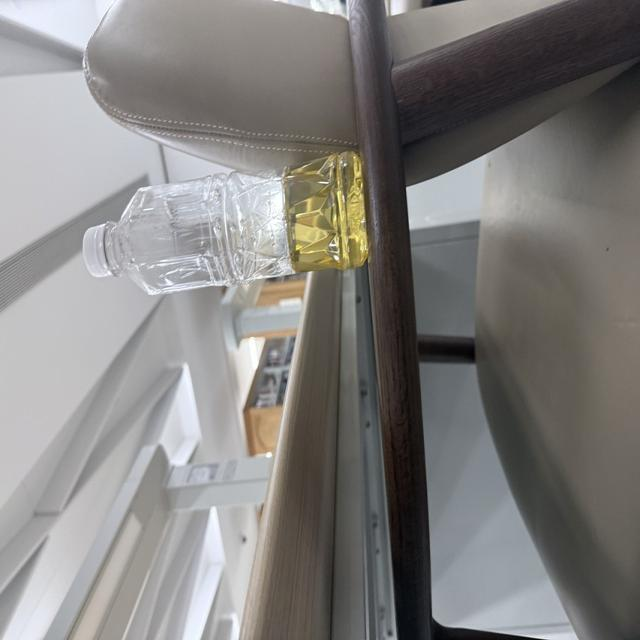low: (83, 152, 368, 294)
